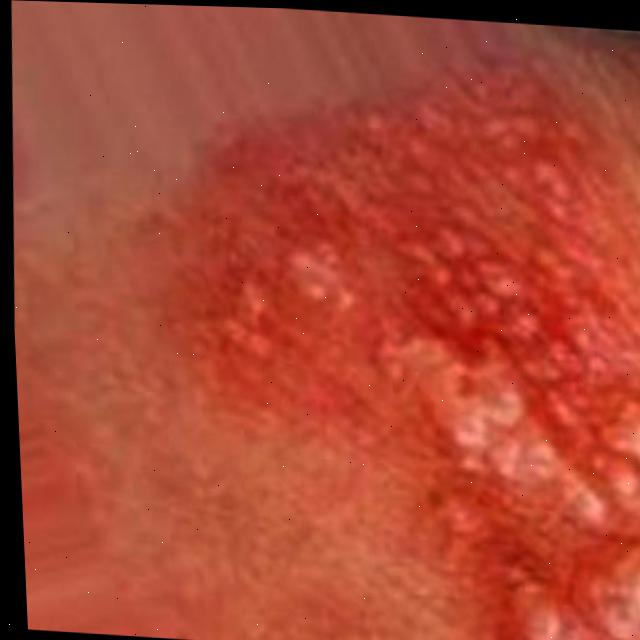Shingles: (266, 143, 640, 640)
